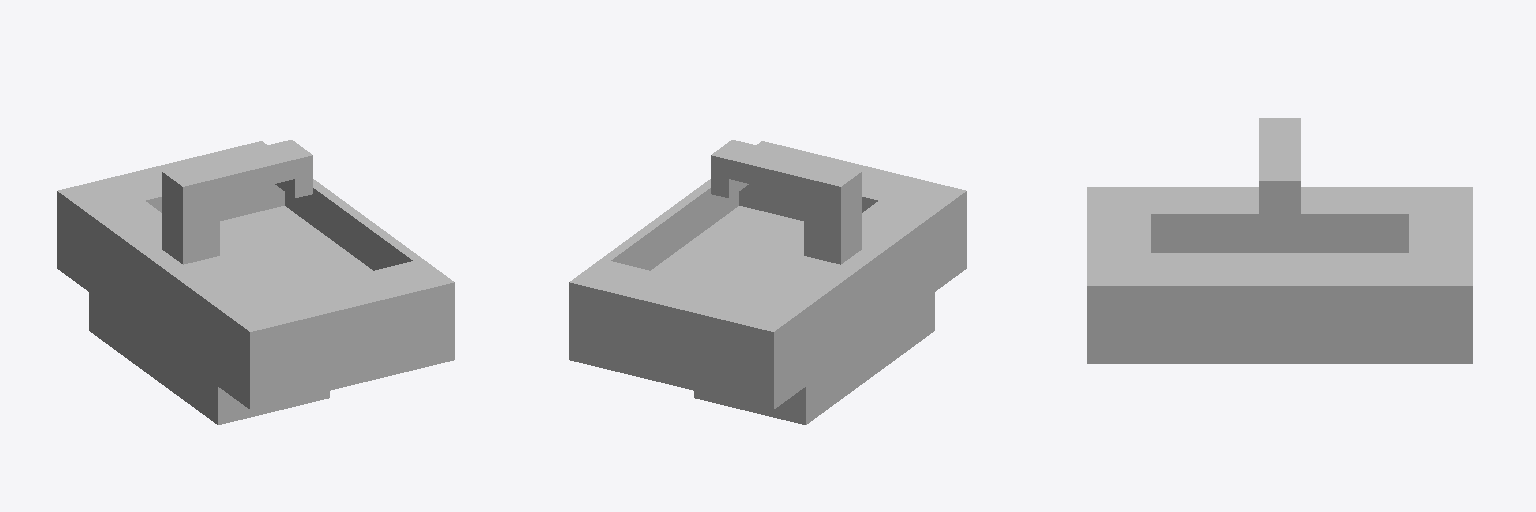
File: Sink.obj
The picture shows the model from 3 angles: view 1: azimuth 30°, elevation 25°; view 2: azimuth 150°, elevation 25°; view 3: azimuth 270°, elevation 25°; orthographic projection.
Parts seen in each view (by area): view 1: Sink; view 2: Sink; view 3: Sink.
Boxes of the visible parts, x1,y1,x2,y2 form: Sink: [57, 140, 454, 424]; Sink: [569, 140, 966, 424]; Sink: [1087, 118, 1472, 363].
Size of the model in its own units: 44 by 40 by 72.